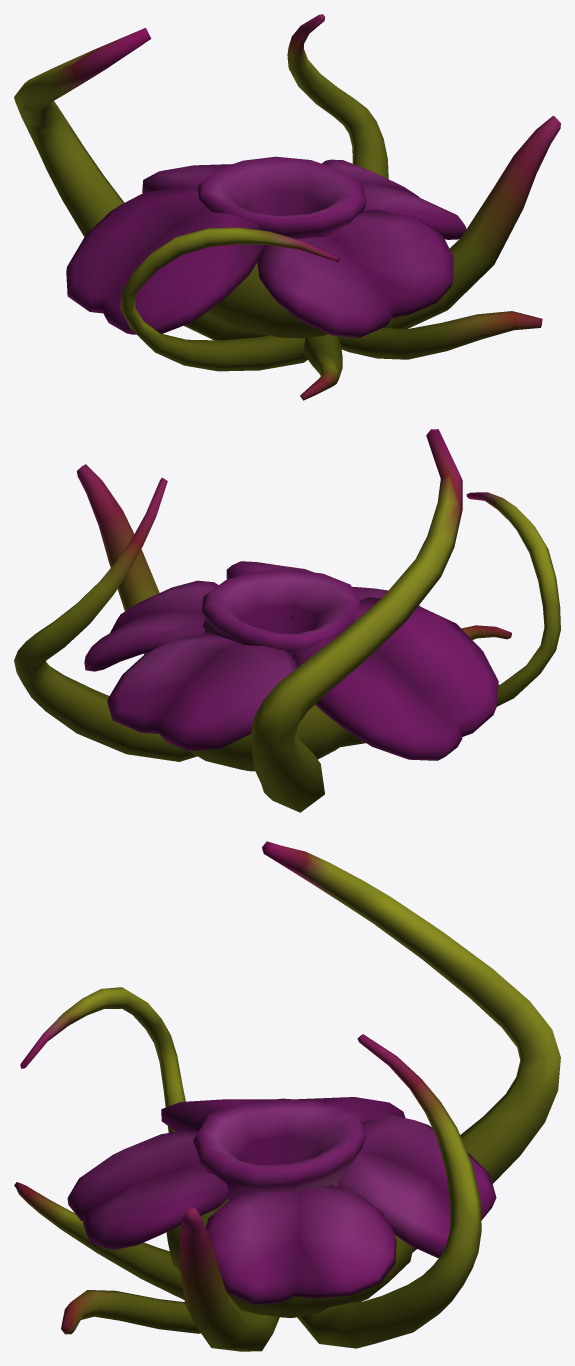
File: Plant_28.fbx
The picture shows the model from 3 angles, top to bottom: view 1: azimuth 30°, elevation 25°; view 2: azimuth 150°, elevation 25°; view 3: azimuth 270°, elevation 25°; orthographic projection. The views are drawn at different scales.
Visible parts, largest first — view 1: Plant_28; view 2: Plant_28; view 3: Plant_28.
Part boxes in pixels (box(x1,y1,x2,y2)): Plant_28: box(14, 14, 560, 400); Plant_28: box(14, 429, 560, 812); Plant_28: box(14, 841, 560, 1351).
Size of the model in its own units: 670 by 523 by 648.
